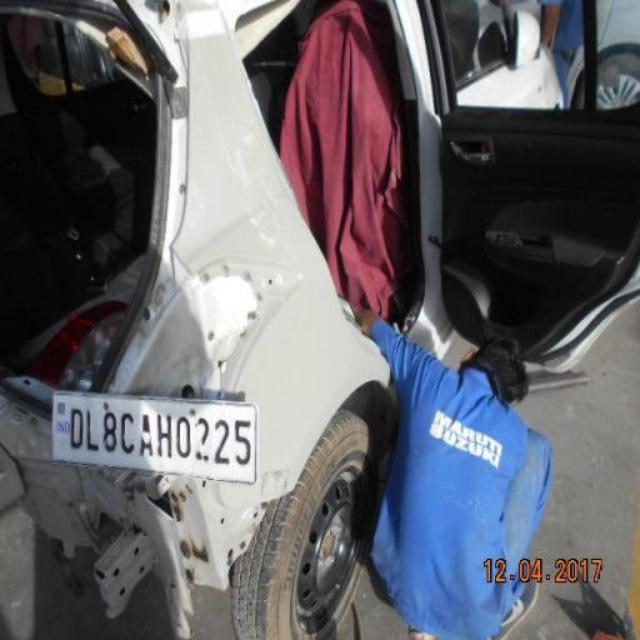no part: (0, 255, 300, 640)
